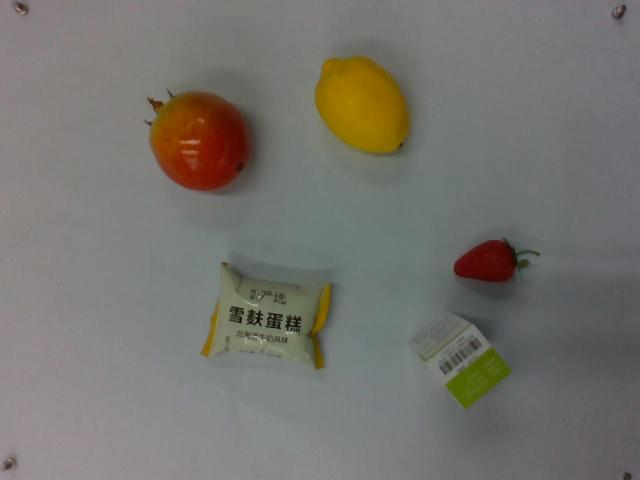carton: (406, 309, 513, 411)
dessert: (201, 259, 335, 371)
lemon: (315, 54, 413, 158)
pomegranate: (144, 86, 251, 192)
strawberry: (453, 234, 541, 287)
